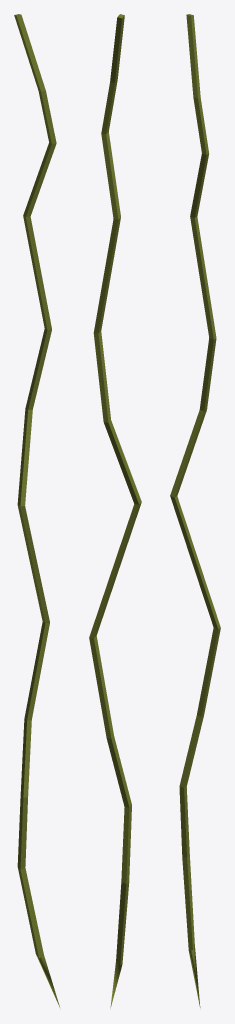
Rendered from Liana5.FBX.
3 renders of one model, left to right at view 1: azimuth 30°, elevation 25°; view 2: azimuth 150°, elevation 25°; view 3: azimuth 330°, elevation 25°, orthographic. The views are drawn at different scales.
Visible parts, largest first — view 1: Liana5; view 2: Liana5; view 3: Liana5.
Part boxes in pixels (<box>): Liana5: <box>14,14,59,1007</box>; Liana5: <box>89,14,141,1008</box>; Liana5: <box>170,14,220,1007</box>.
Bounding box in the file's own units: 0.5117 × 12.31 × 0.4204.
